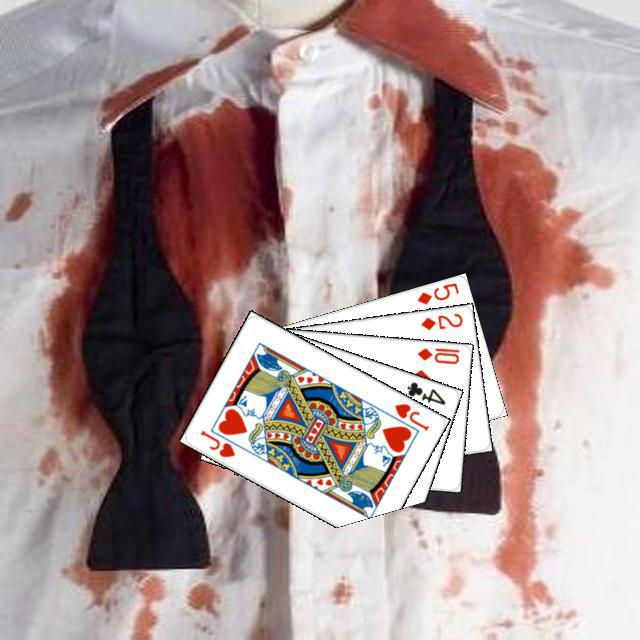10d: (412, 343, 461, 366)
2d: (416, 308, 464, 332)
4c: (402, 377, 447, 407)
5d: (412, 278, 460, 306)
Jh: (389, 398, 430, 433), (195, 425, 237, 459)
